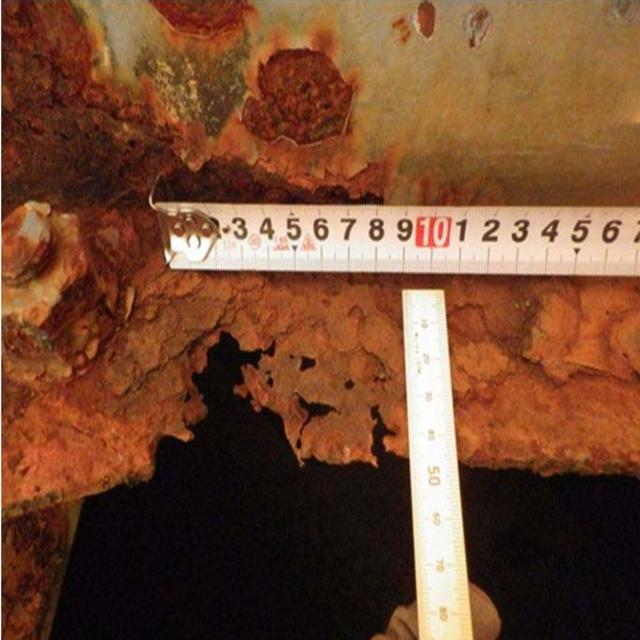corrosion: (11, 10, 640, 496)
